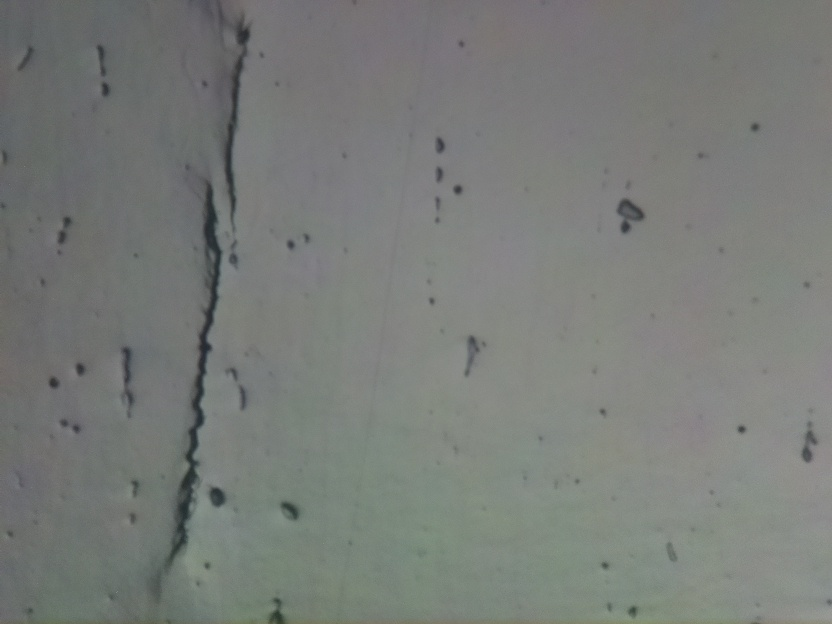crack: (149, 177, 225, 573), (219, 17, 251, 226)
